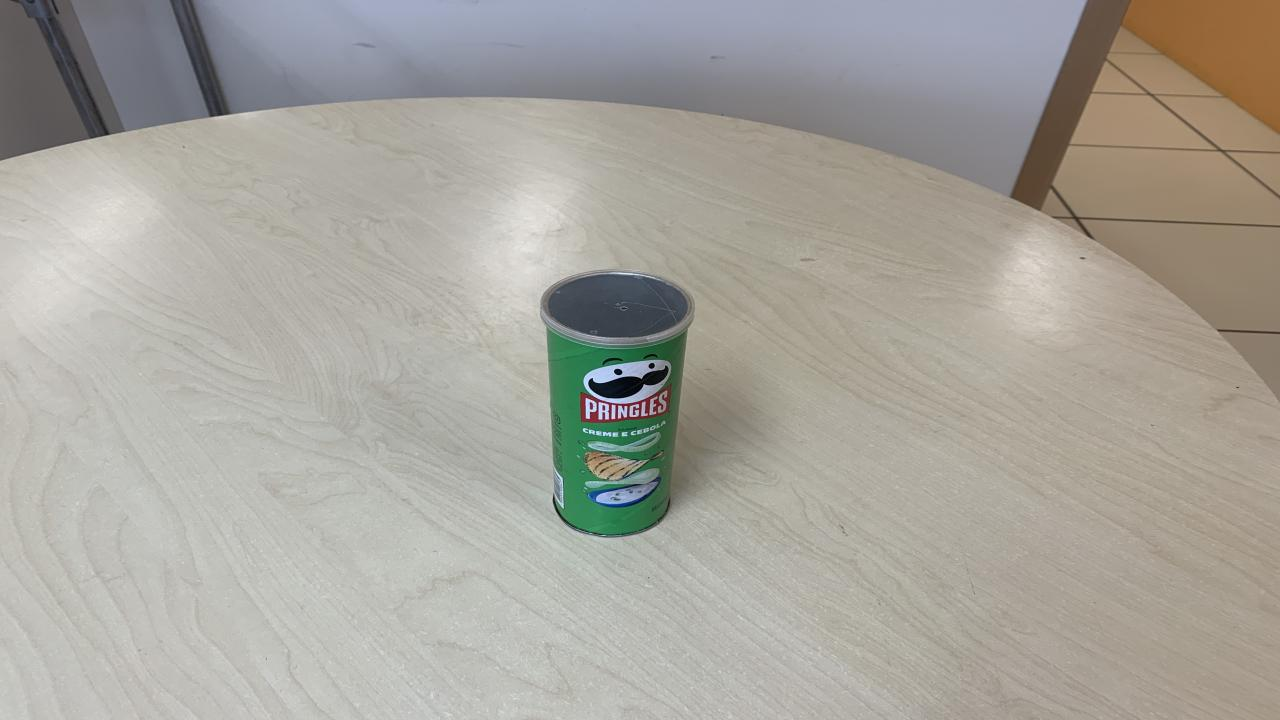Pringles-Snacks: (538, 272, 693, 541)
